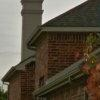Chimney: (15, 2, 46, 61)
